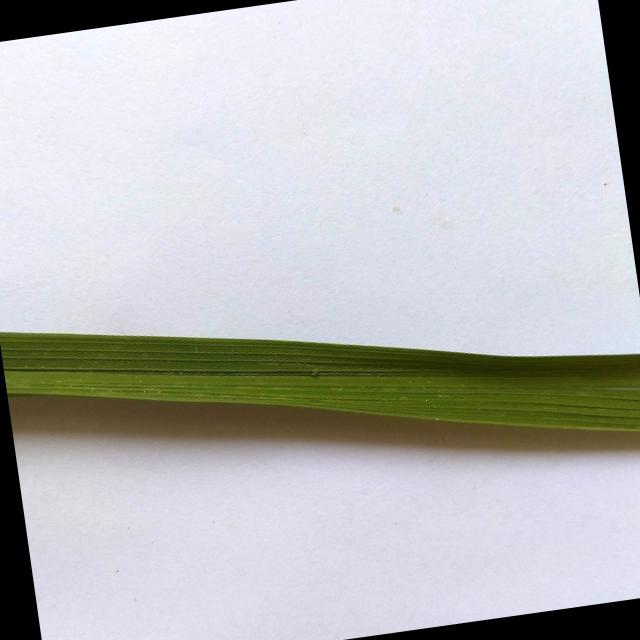Rice_Healthy: (0, 332, 640, 431)
